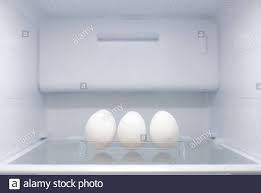eggs: (152, 107, 185, 149), (86, 105, 116, 150), (119, 109, 148, 154)
